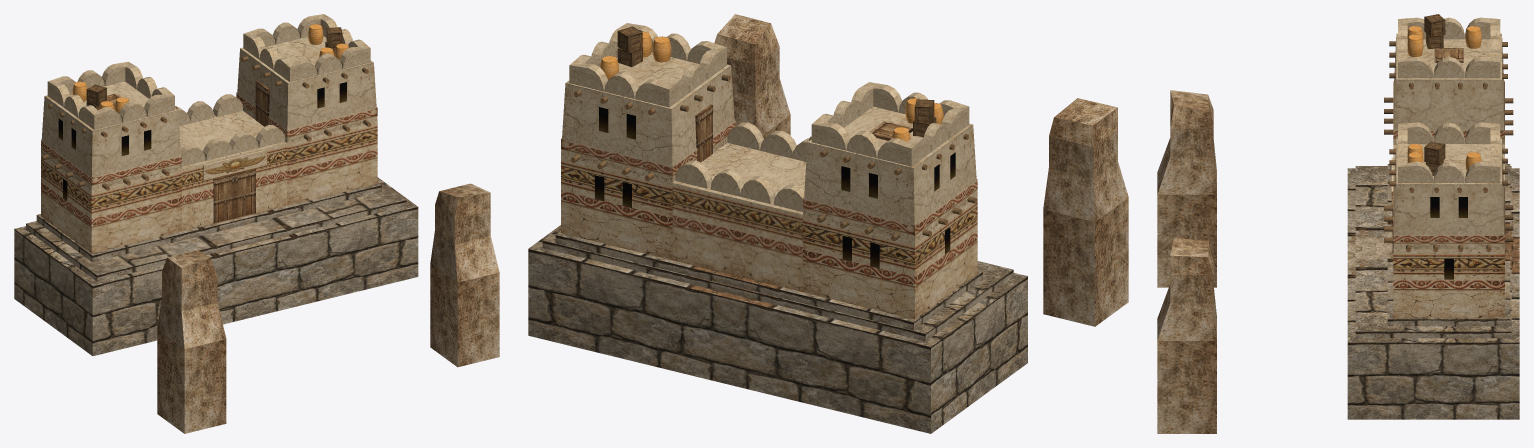
3 renders of one model, left to right at view 1: azimuth 30°, elevation 25°; view 2: azimuth 150°, elevation 25°; view 3: azimuth 270°, elevation 25°, orthographic. The views are drawn at different scales.
Parts seen in each view (by area): view 1: cc; view 2: cc; view 3: cc.
Boxes of the visible parts, bbox=[...] form: cc: bbox=[14, 14, 499, 433]; cc: bbox=[528, 14, 1128, 433]; cc: bbox=[1157, 14, 1519, 433].
Bounding box in the file's own units: 36.86 × 32.35 × 26.36.
